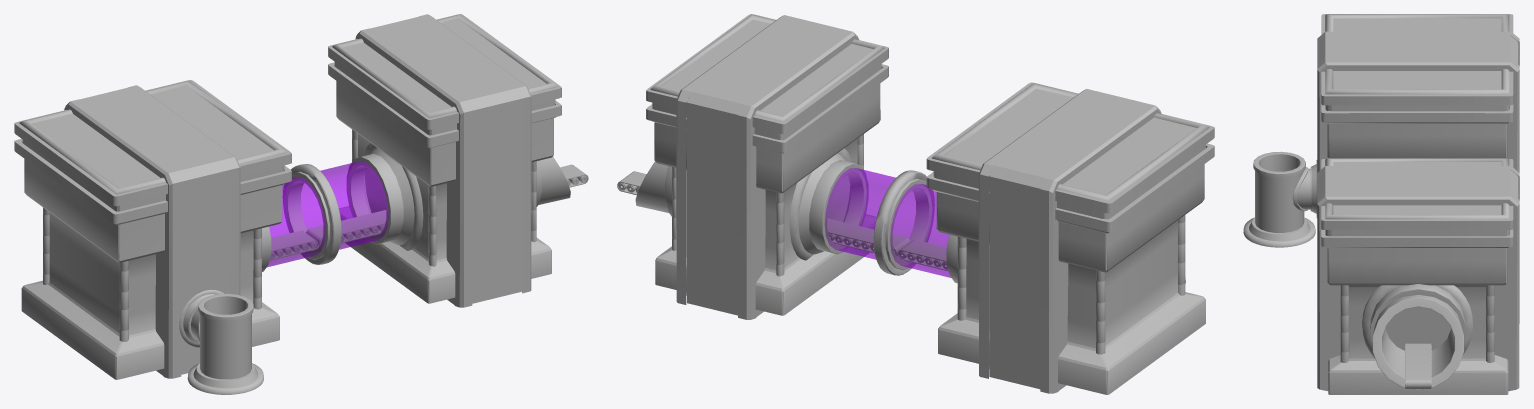
Rendered from Folder.FBX.
3 renders of one model, left to right at view 1: azimuth 30°, elevation 25°; view 2: azimuth 150°, elevation 25°; view 3: azimuth 270°, elevation 25°, orthographic. The views are drawn at different scales.
Parts seen in each view (by area): view 1: Folder_Body, Folder_Glass; view 2: Folder_Body, Folder_Glass; view 3: Folder_Body.
Boxes of the visible parts, bbox=[...] form: Folder_Body: bbox=[14, 14, 588, 394]; Folder_Glass: bbox=[267, 161, 388, 267]; Folder_Body: bbox=[617, 14, 1214, 394]; Folder_Glass: bbox=[825, 168, 951, 277]; Folder_Body: bbox=[1243, 14, 1519, 394].
Size of the model in its own units: 9.99 by 3.77 by 4.87.
